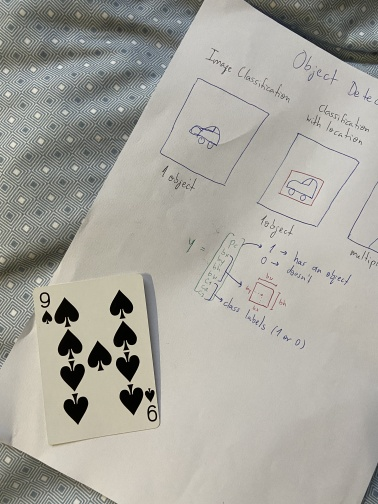nine: (31, 271, 161, 448)
